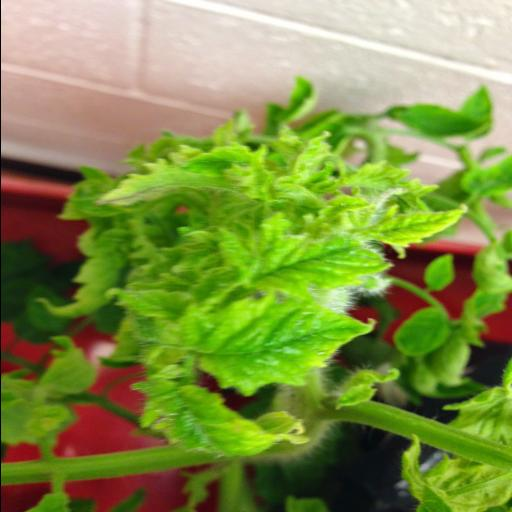Yellow Leaf Curl Virus: (161, 304, 381, 400), (206, 231, 416, 298), (133, 384, 323, 458)
